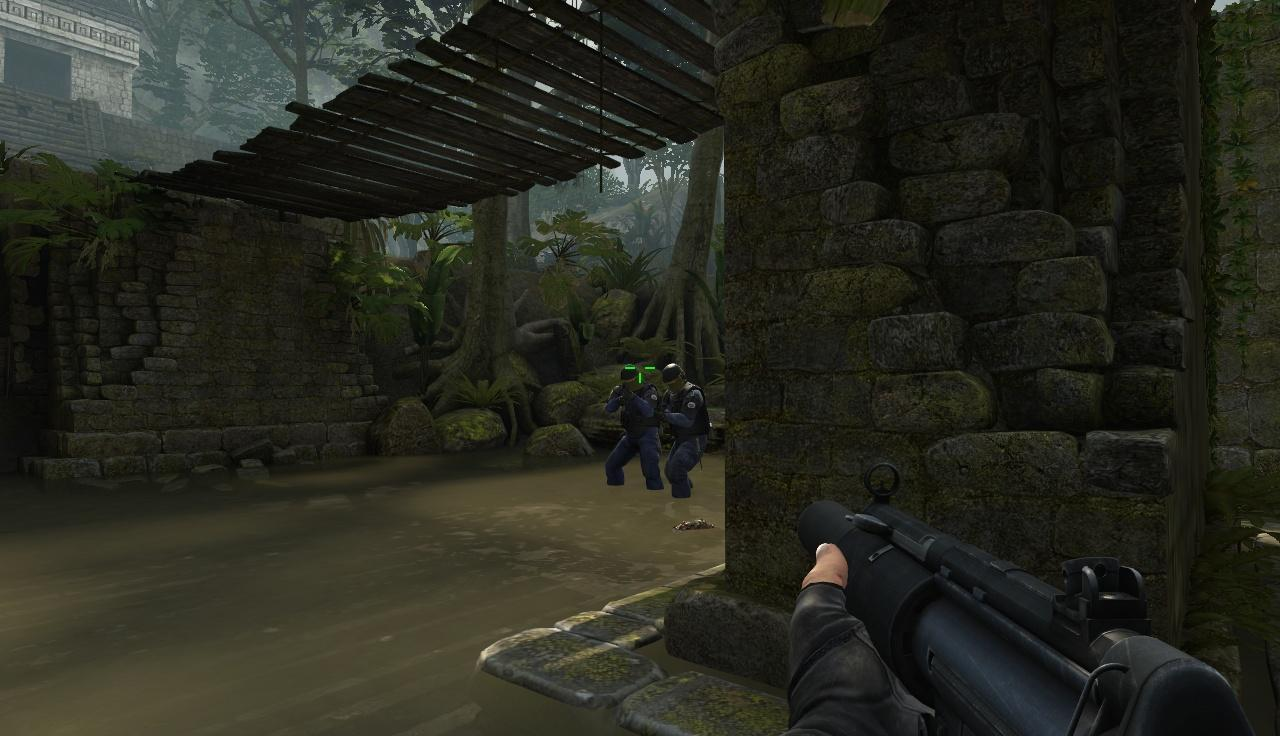ct: (658, 359, 709, 495), (608, 361, 660, 494)
cthead: (662, 361, 688, 393), (621, 364, 644, 390)
rifle: (797, 463, 1271, 731)
